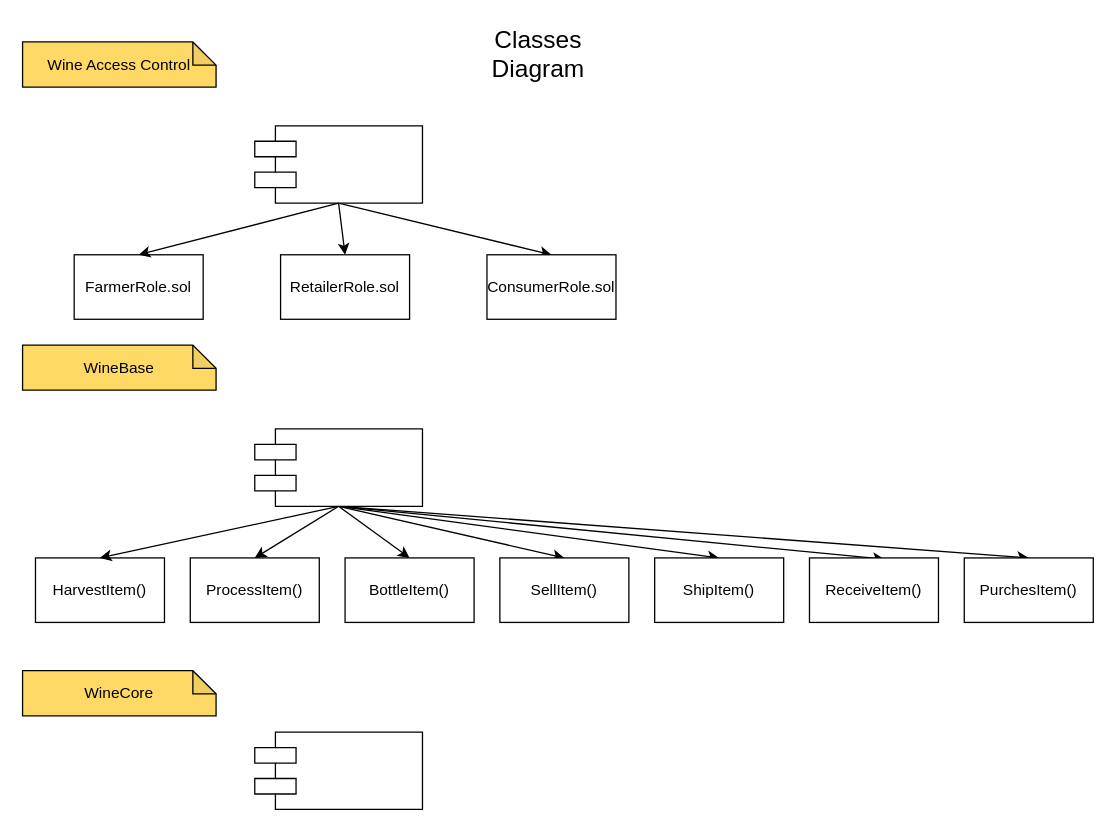
This 1116x832 diagram has some shape labels left out. The shapes that lost their labels are listed below. From the top down, each one's centre as x and y in pixels, then its label:
At (337,163): "Roles.sol".
At (337,467): "SupplyChain.sol".
At (337,770): "Ownable.sol".
